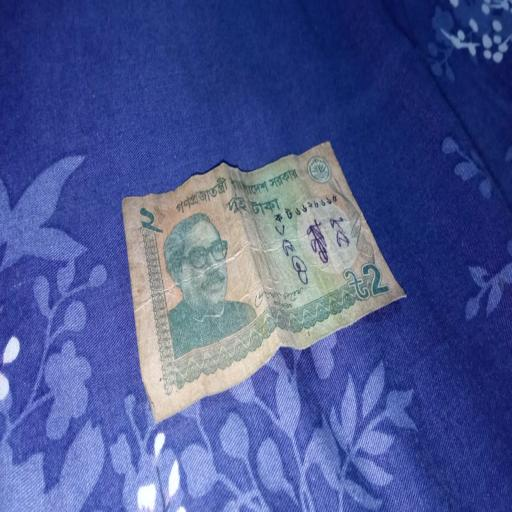2taka: (121, 141, 406, 417)
